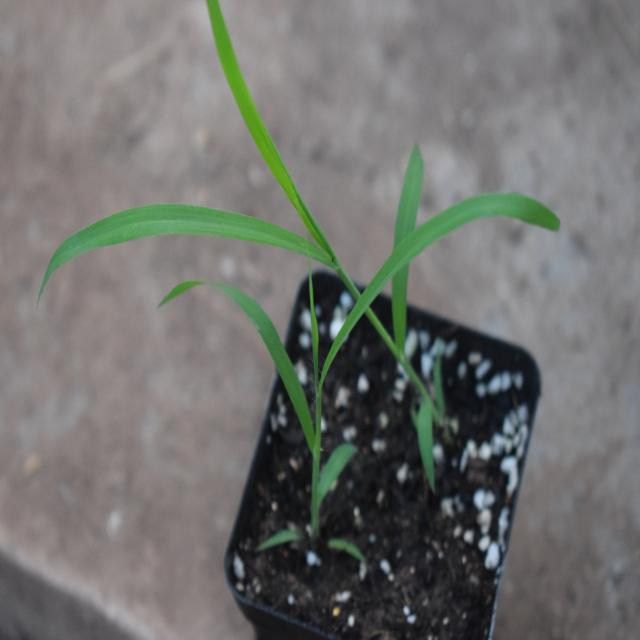crabgrass: (204, 192, 538, 521)
